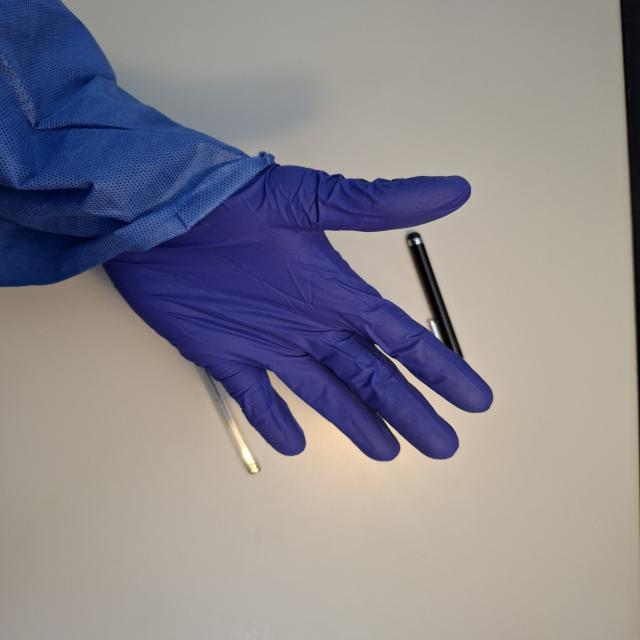glove_on: (96, 146, 496, 464)
